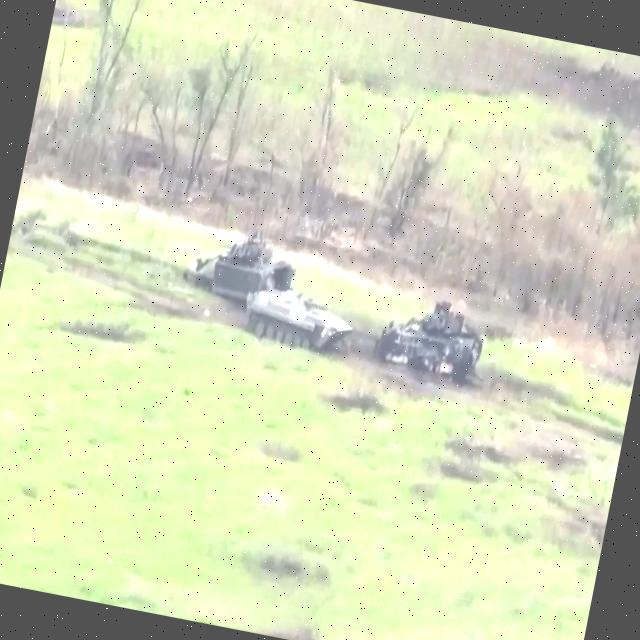AIFV: (367, 287, 494, 396), (181, 216, 305, 312), (238, 281, 361, 365)
